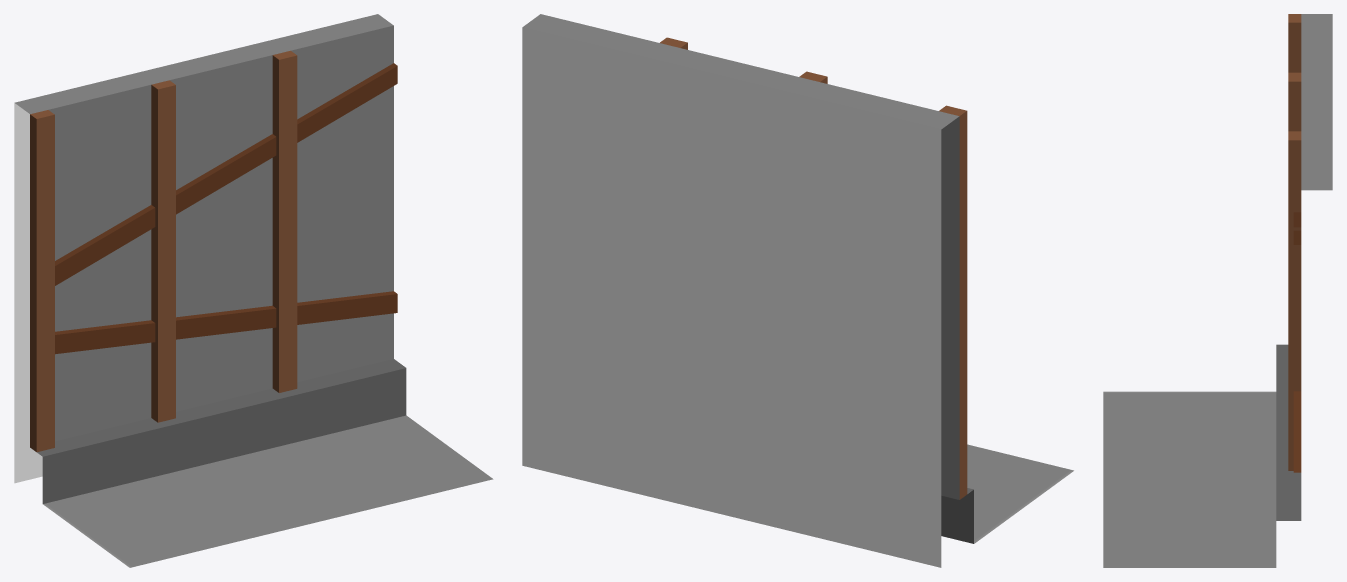
The model's file is E_Wall_Straight_Bare_4.fbx.
3 renders of one model, left to right at view 1: azimuth 30°, elevation 25°; view 2: azimuth 150°, elevation 25°; view 3: azimuth 270°, elevation 25°, orthographic. The views are drawn at different scales.
Visible parts, largest first — view 1: E_Wall_Straight_Bare_4; view 2: E_Wall_Straight_Bare_4; view 3: E_Wall_Straight_Bare_4.
Boxes of the visible parts, x1,y1,x2,y2 form: E_Wall_Straight_Bare_4: (14, 14, 493, 567); E_Wall_Straight_Bare_4: (522, 14, 1073, 567); E_Wall_Straight_Bare_4: (1103, 14, 1332, 567).
Bounding box in the file's own units: 200 × 200 × 110.
